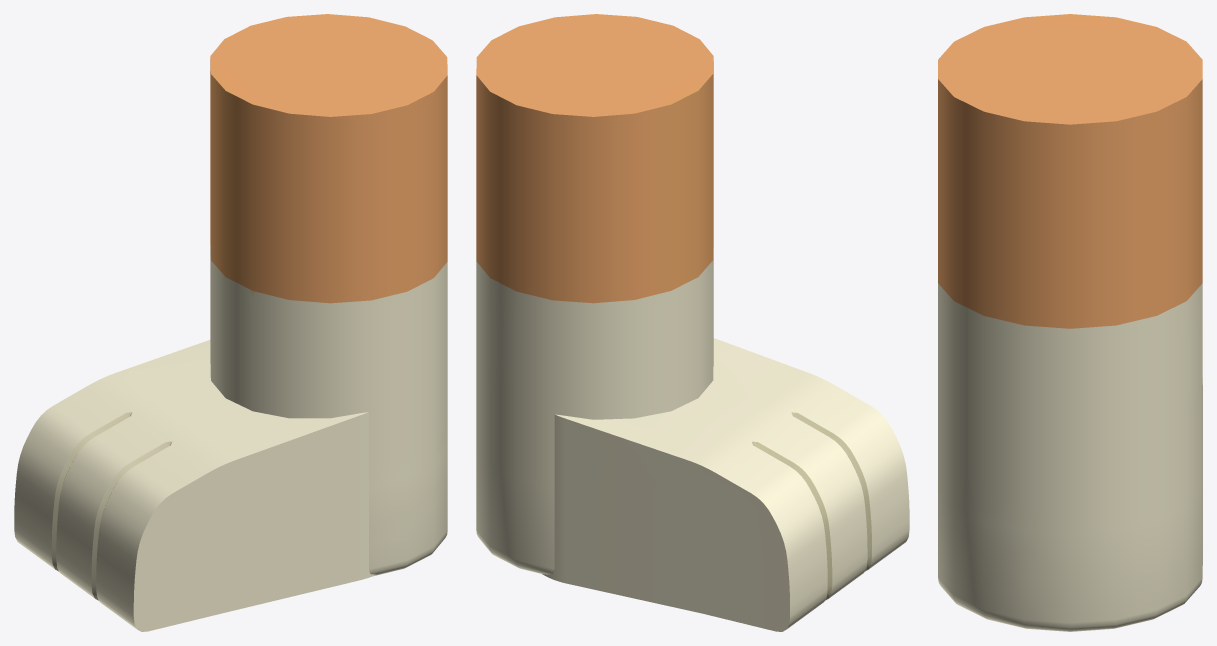
Rendered from patauno_Bingo.obj.
3 renders of one model, left to right at view 1: azimuth 30°, elevation 25°; view 2: azimuth 150°, elevation 25°; view 3: azimuth 270°, elevation 25°, orthographic. The views are drawn at different scales.
Visible parts, largest first — view 1: Cylinder022; view 2: Cylinder022; view 3: Cylinder022.
Part boxes in pixels (x1,y1,x2,y2): Cylinder022: (14, 14, 447, 631); Cylinder022: (476, 14, 909, 631); Cylinder022: (938, 14, 1202, 631).
Bounding box in the file's own units: 13.12 × 16.3 × 7.66.
